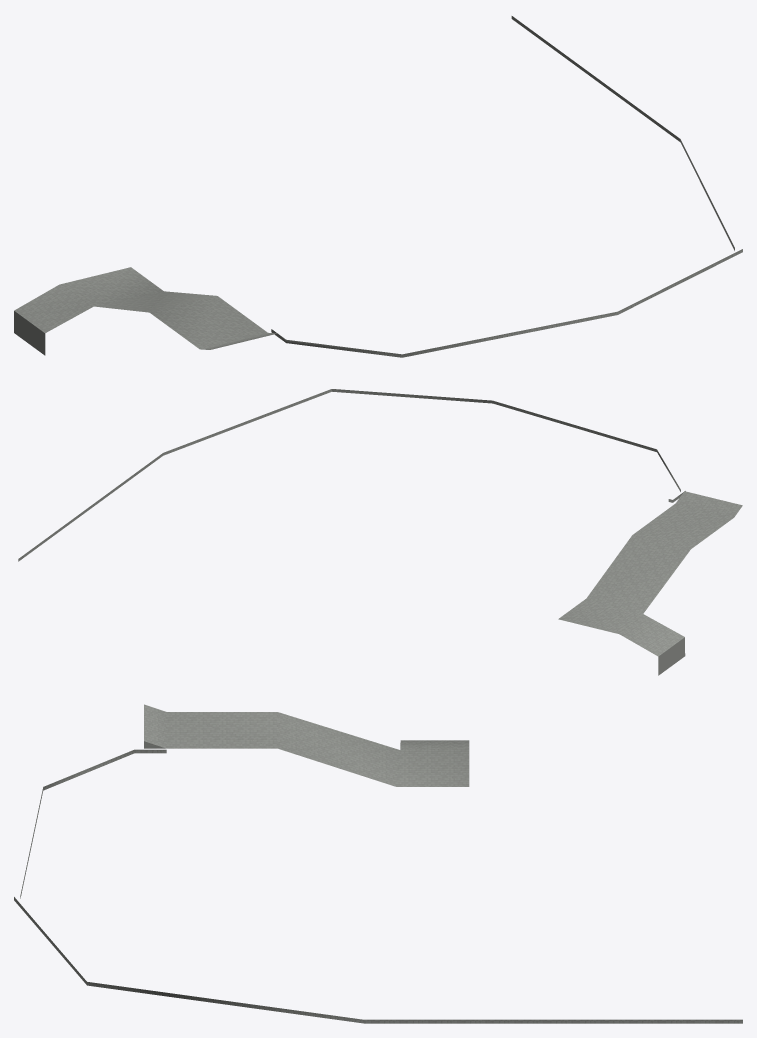
The model's file is kd_stage_1366d7_2_1.glb.
3 renders of one model, top to bottom at view 1: azimuth 30°, elevation 25°; view 2: azimuth 150°, elevation 25°; view 3: azimuth 270°, elevation 25°, orthographic. The views are drawn at different scales.
Visible parts, largest first — view 1: kd_stage_1366d7_2_1; view 2: kd_stage_1366d7_2_1; view 3: kd_stage_1366d7_2_1.
Boxes of the visible parts, left/top/right/bottom form: kd_stage_1366d7_2_1: left=14, top=16, right=742, bottom=357; kd_stage_1366d7_2_1: left=18, top=389, right=742, bottom=675; kd_stage_1366d7_2_1: left=14, top=704, right=742, bottom=1023.
Bounding box in the file's own units: 77.19 × 9.28 × 70.42.
1 material, 1 textured.
